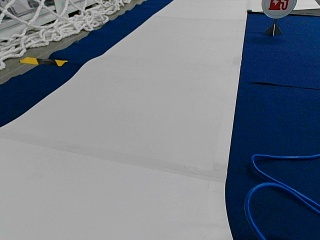battery: (261, 0, 295, 18)
